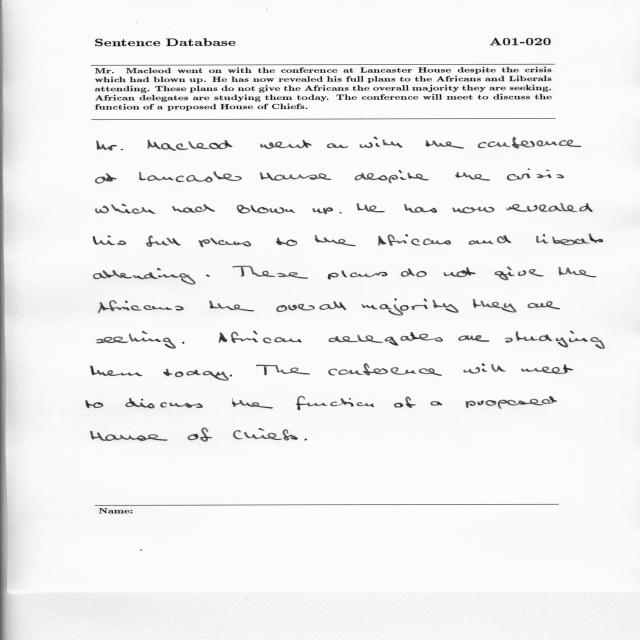word: (504, 331, 605, 349), (94, 268, 196, 285), (361, 299, 459, 316), (328, 332, 443, 346), (328, 363, 442, 376), (97, 331, 176, 349), (466, 396, 557, 409), (478, 137, 581, 148), (139, 172, 242, 183), (98, 300, 184, 313), (296, 396, 374, 410), (219, 331, 302, 343), (354, 170, 429, 183), (233, 266, 308, 279), (148, 140, 233, 151), (378, 234, 451, 246), (233, 428, 298, 441), (163, 369, 229, 381), (125, 398, 203, 408), (507, 203, 593, 212), (277, 301, 347, 312), (91, 431, 168, 441), (536, 234, 603, 245), (495, 267, 544, 281), (507, 169, 564, 181), (260, 172, 331, 181), (96, 204, 156, 214), (328, 270, 388, 280), (256, 365, 310, 376), (473, 299, 516, 312), (237, 205, 295, 214), (91, 366, 143, 376), (521, 364, 573, 374), (209, 301, 254, 312), (360, 137, 403, 148), (463, 363, 506, 374), (260, 140, 312, 149), (199, 238, 251, 247), (315, 235, 356, 246), (232, 398, 273, 409), (146, 235, 181, 247), (469, 235, 511, 245), (172, 204, 215, 213), (188, 427, 213, 442), (559, 267, 596, 277), (426, 140, 464, 149), (93, 236, 126, 246), (444, 267, 476, 277), (456, 172, 491, 181), (96, 140, 123, 151), (404, 204, 437, 213), (527, 301, 560, 310), (394, 396, 416, 408), (357, 203, 385, 212), (453, 207, 495, 213), (401, 268, 427, 277), (96, 173, 117, 184), (459, 335, 490, 342), (276, 238, 297, 246), (312, 208, 333, 215), (86, 400, 103, 408), (327, 143, 348, 148), (430, 401, 442, 406), (206, 275, 210, 277), (339, 212, 342, 214), (304, 439, 307, 441), (182, 342, 184, 344), (230, 375, 232, 377)
